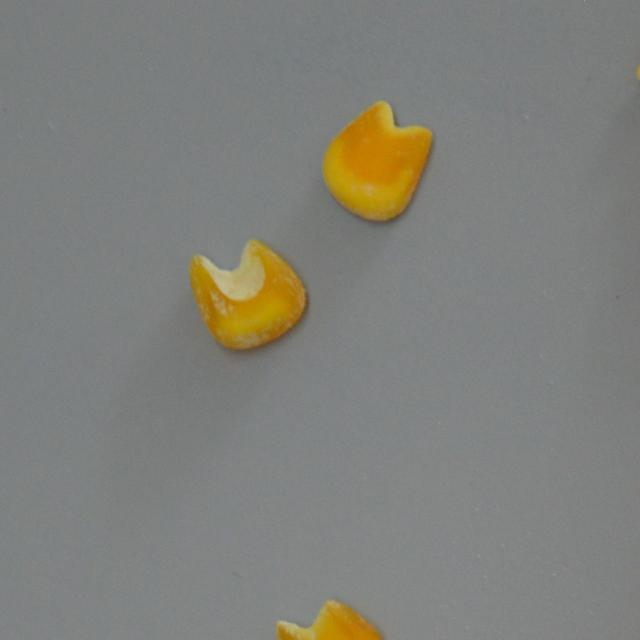dañado: (184, 230, 310, 356), (272, 596, 390, 640)
no_canjicado: (318, 98, 436, 224)
